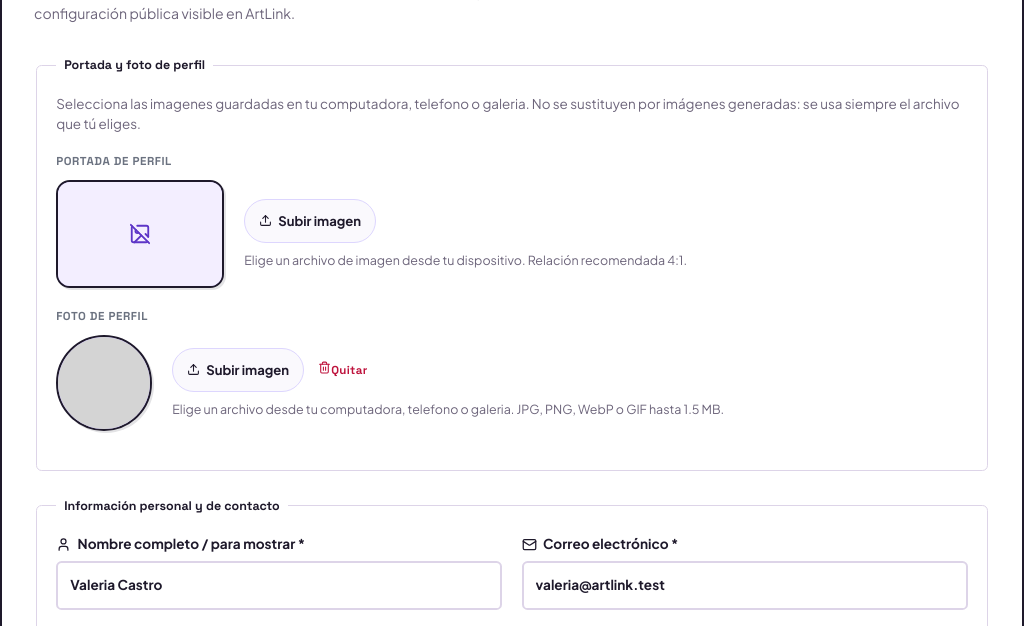
Test: ProfileSettingsSection - Modificación de Perfil › valida que el nombre no esté vacío al guardar
Clear the field labelled "Nombre completo / para mostrar *" at (279, 586), box x1=56 y1=561 x2=502 y2=610
(page scrolled)
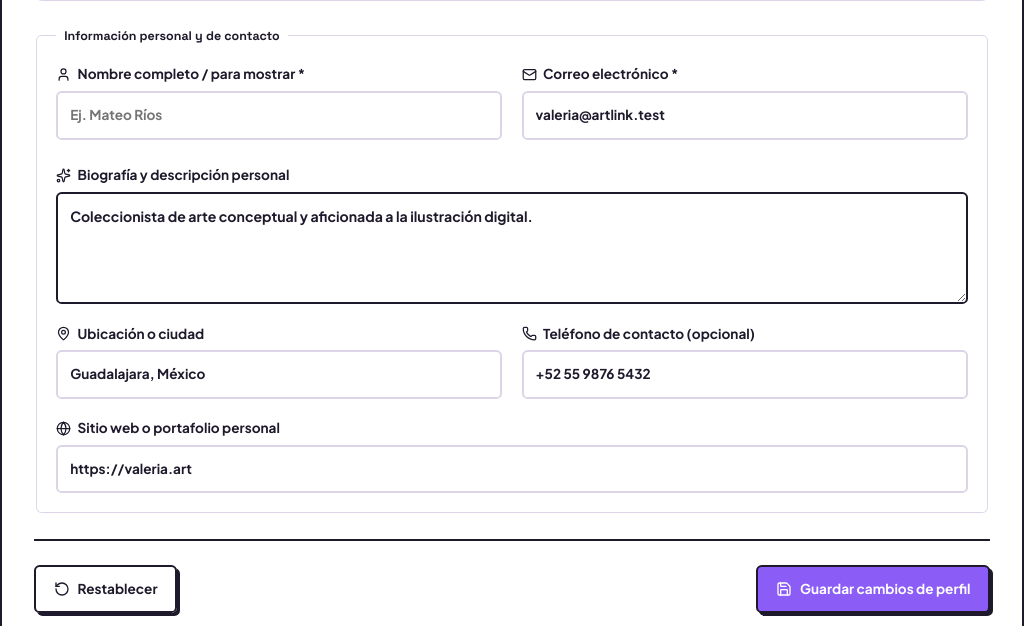
Click the button "Guardar cambios de perfil".
click(873, 589)  # box x1=756 y1=565 x2=990 y2=613
(page scrolled)
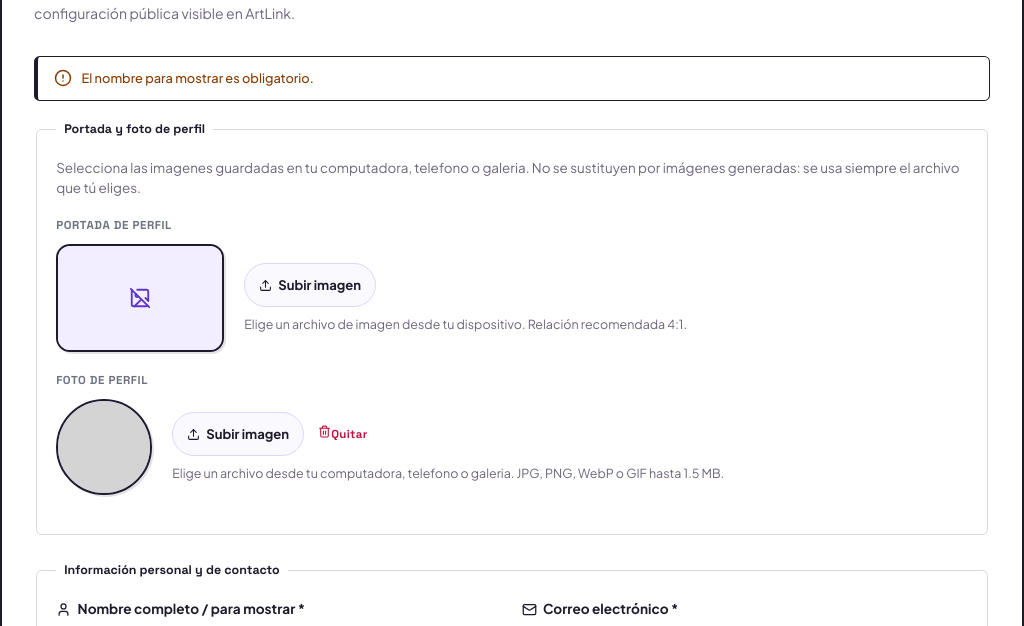
Now the text "El nombre para mostrar es obligatorio." is shown, box x1=82 y1=69 x2=314 y2=88
